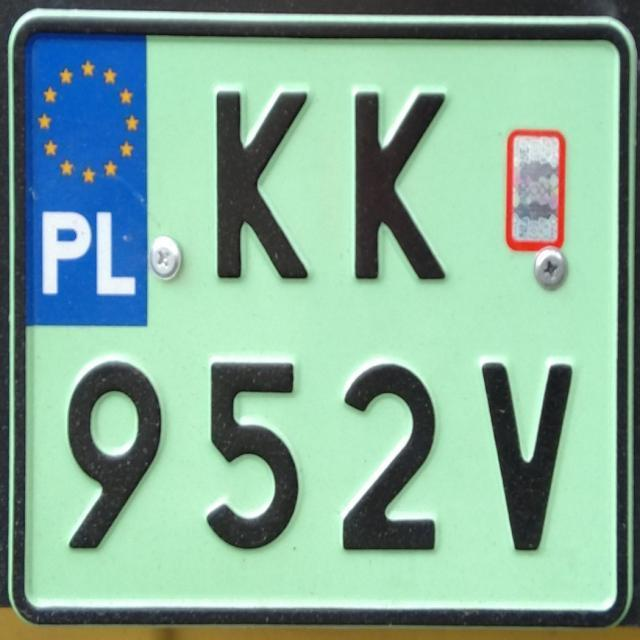License_Plate: (4, 15, 632, 633)
